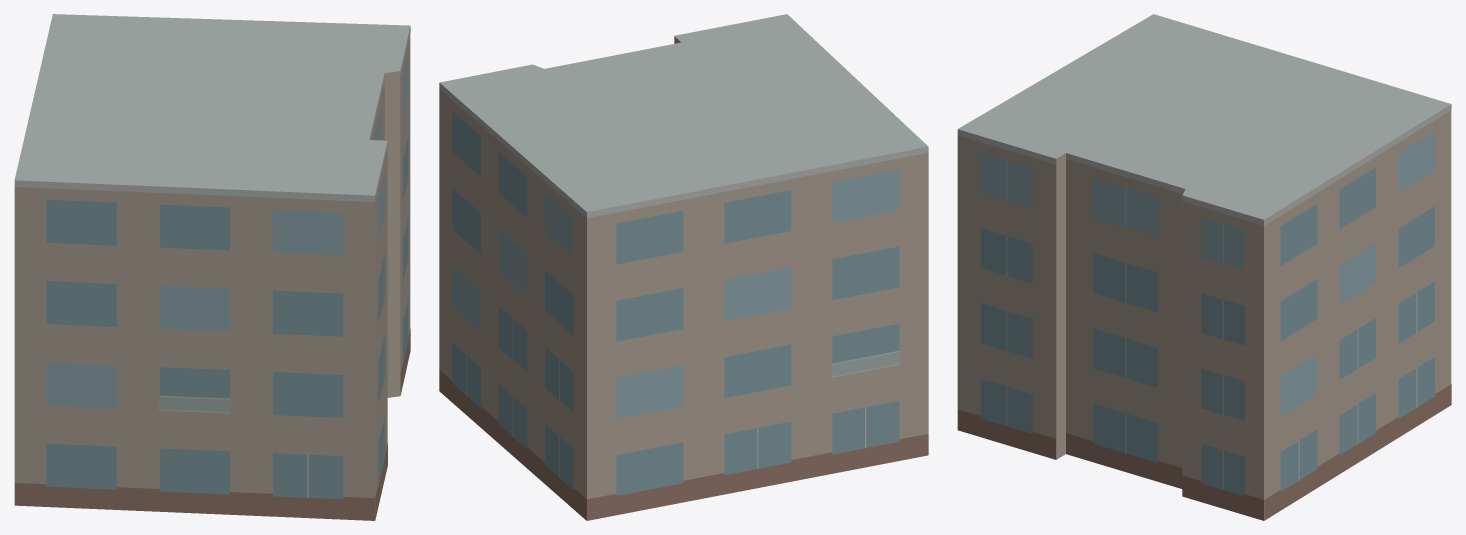
Rendered from survey-upis-32780073.glb.
3 renders of one model, left to right at view 1: azimuth 30°, elevation 25°; view 2: azimuth 150°, elevation 25°; view 3: azimuth 270°, elevation 25°, orthographic. The views are drawn at different scales.
Visible parts, largest first — view 1: survey-upis-32780073.tmp; view 2: survey-upis-32780073.tmp; view 3: survey-upis-32780073.tmp.
Boxes of the visible parts, x1,y1,x2,y2 form: survey-upis-32780073.tmp: [14, 14, 410, 520]; survey-upis-32780073.tmp: [439, 14, 928, 520]; survey-upis-32780073.tmp: [957, 14, 1451, 520].
Bounding box in the file's own units: 17.9 × 12.2 × 18.14.
